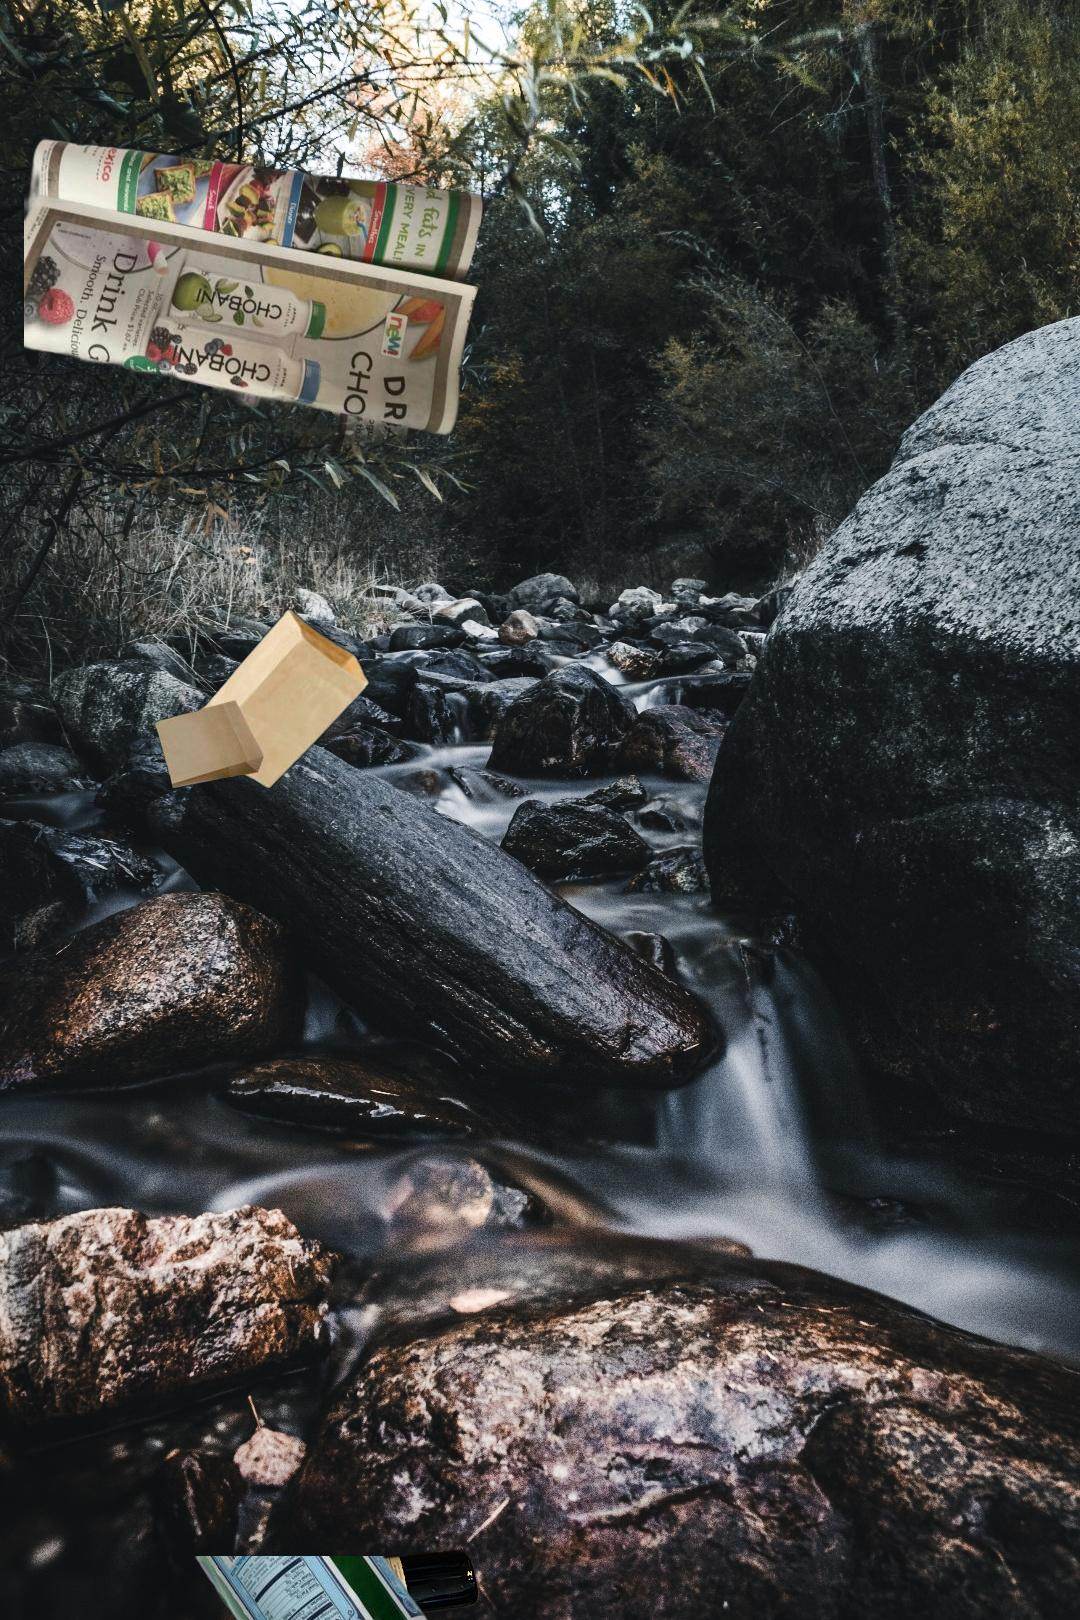clothes: (1078, 671, 1080, 990)
glass: (189, 1556, 586, 1620), (233, 1543, 483, 1620)
paper: (24, 137, 488, 454)
paper-bag: (151, 606, 372, 792)
